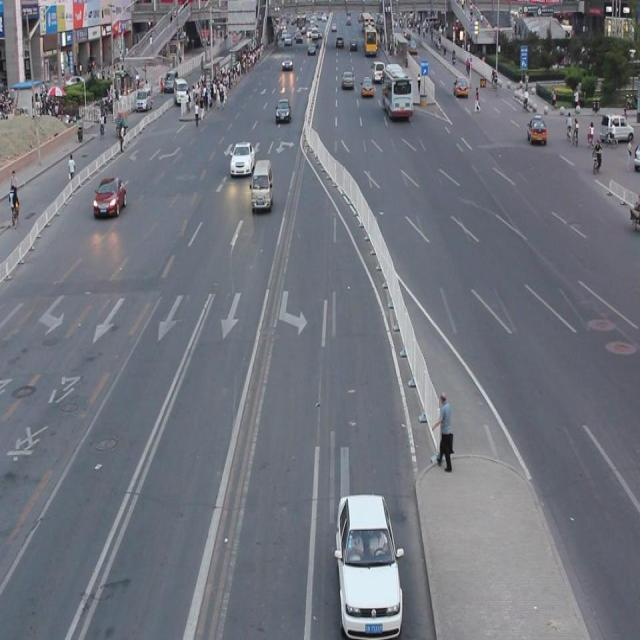car: (335, 489, 401, 640), (93, 175, 126, 216)
truck: (250, 160, 274, 210)
